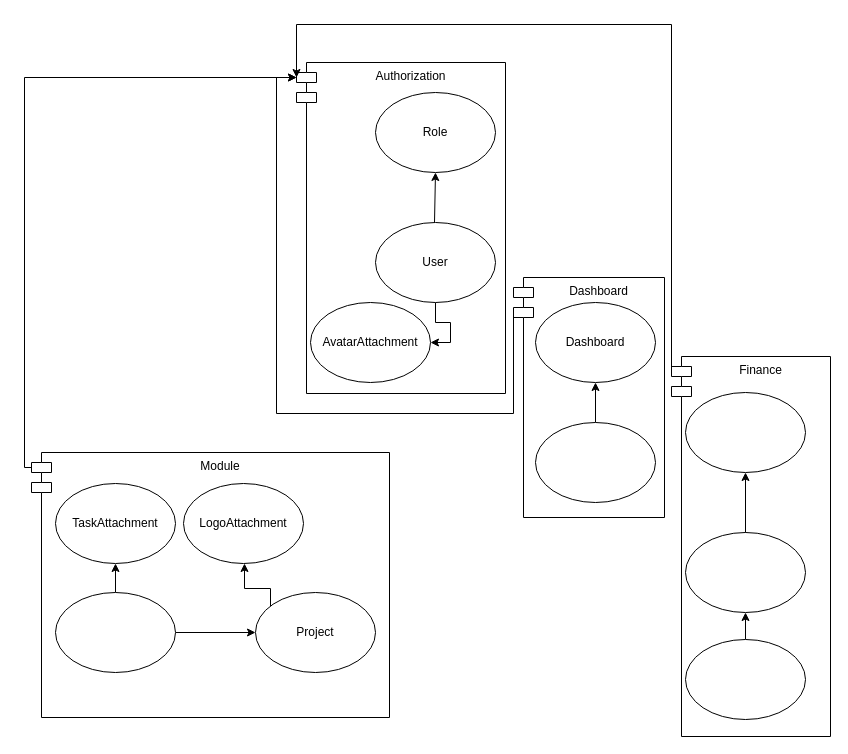
The diagram is 848 pixels wide and 754 high, and some of its shapes have lost their labels. The centre of each missing label's shape, as x and y in pixels:
"Payment" belongs at (x=745, y=572).
"Plan" belongs at (x=745, y=679).
"Subscription" belongs at (x=745, y=432).
"Task" belongs at (x=115, y=632).
"Widget" belongs at (x=595, y=462).
